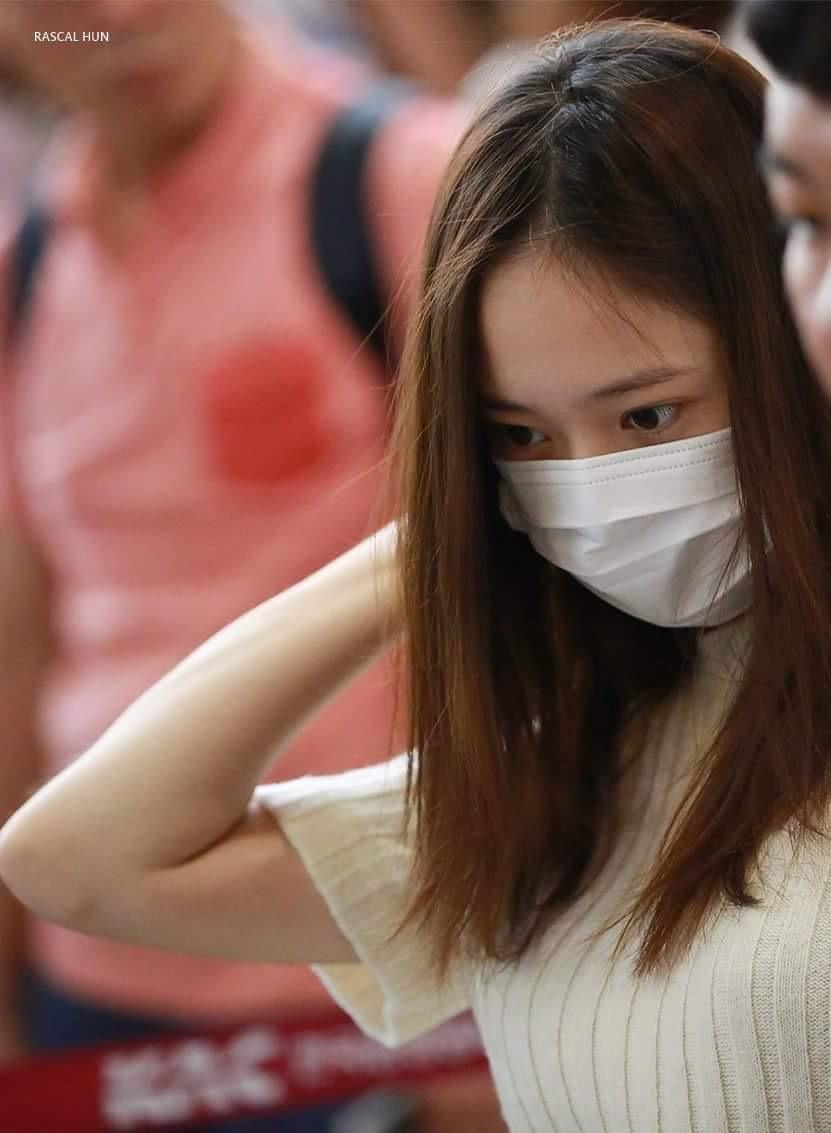OK: (482, 337, 737, 630)
